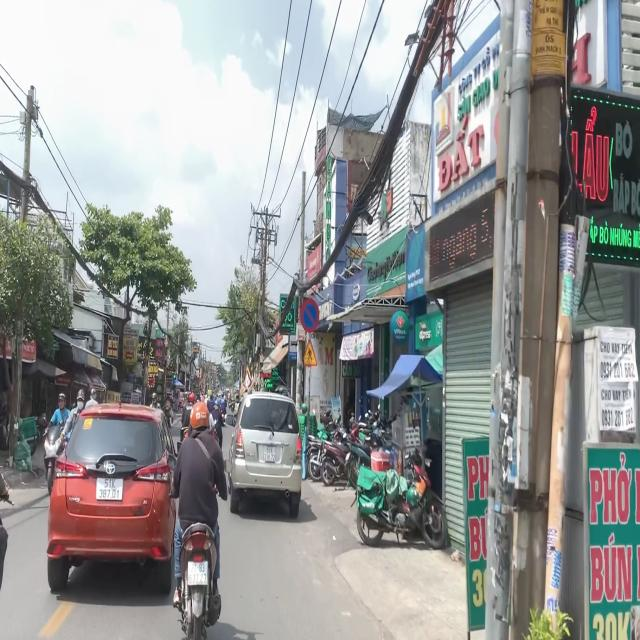Cam do: (299, 297, 320, 333)
Nguoi di bo cat ngang: (302, 339, 318, 367)
